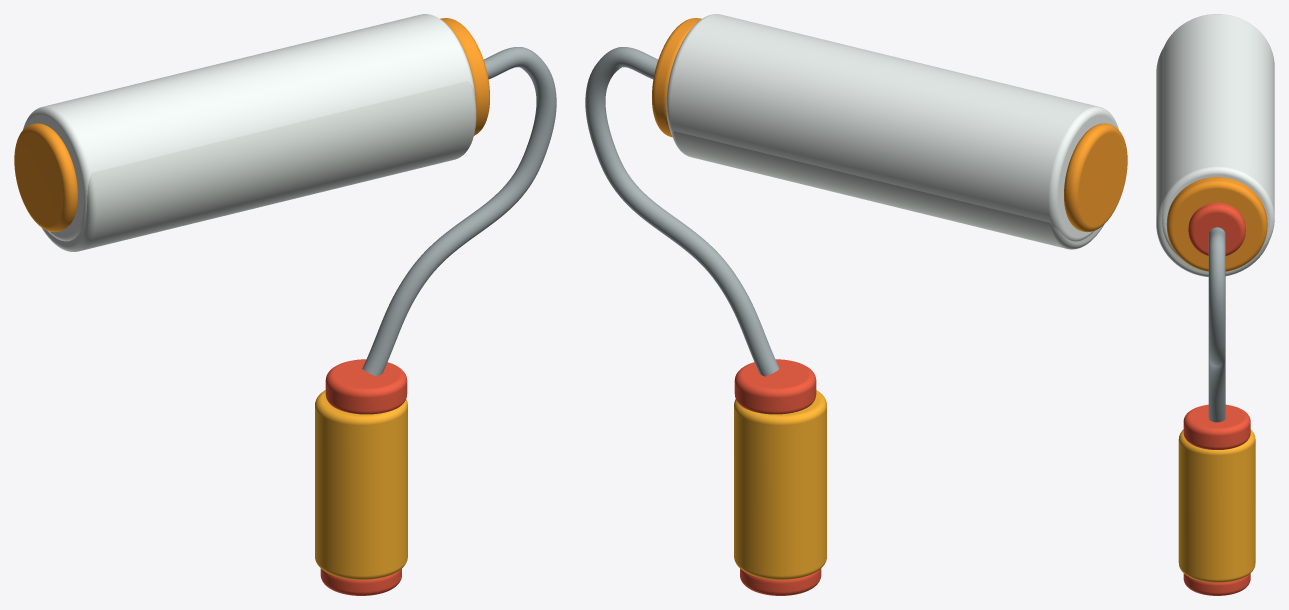
The model's file is PaintRoller.glb.
The picture shows the model from 3 angles, left to right: view 1: azimuth 30°, elevation 25°; view 2: azimuth 150°, elevation 25°; view 3: azimuth 270°, elevation 25°; orthographic projection. The views are drawn at different scales.
Visible parts, largest first — view 1: PaintRoller_Sleeve, PaintRoller_Sleeve_Shadow, PaintRoller_Handle, PaintRoller_Frame, PaintRoller_EndCap_Left, PaintRoller_Handle_Collar_Top, PaintRoller_EndCap_Right, PaintRoller_Handle_Collar_Bottom; view 2: PaintRoller_Sleeve, PaintRoller_Handle, PaintRoller_Sleeve_Shadow, PaintRoller_Frame, PaintRoller_EndCap_Left, PaintRoller_Handle_Collar_Top, PaintRoller_EndCap_Right, PaintRoller_Handle_Collar_Bottom; view 3: PaintRoller_Sleeve, PaintRoller_Handle, PaintRoller_EndCap_Right, PaintRoller_Frame, PaintRoller_Handle_Collar_Top, PaintRoller_Sleeve_Shadow, PaintRoller_EndHub, PaintRoller_Handle_Collar_Bottom.
Part boxes in pixels (x1,y1,x2,y2): PaintRoller_Sleeve: (23, 14, 475, 241); PaintRoller_Sleeve_Shadow: (42, 81, 476, 251); PaintRoller_Handle: (315, 390, 407, 579); PaintRoller_Frame: (362, 47, 556, 376); PaintRoller_EndCap_Left: (14, 123, 77, 232); PaintRoller_Handle_Collar_Top: (325, 359, 407, 414); PaintRoller_EndCap_Right: (440, 18, 489, 135); PaintRoller_Handle_Collar_Bottom: (320, 568, 401, 595); PaintRoller_Sleeve: (666, 14, 1118, 241); PaintRoller_Handle: (734, 390, 826, 579); PaintRoller_Sleeve_Shadow: (672, 131, 1104, 249); PaintRoller_Frame: (585, 47, 779, 376); PaintRoller_EndCap_Left: (1064, 123, 1127, 232); PaintRoller_Handle_Collar_Top: (734, 359, 816, 414); PaintRoller_EndCap_Right: (652, 18, 701, 137); PaintRoller_Handle_Collar_Bottom: (740, 568, 821, 595); PaintRoller_Sleeve: (1162, 14, 1274, 257); PaintRoller_Handle: (1178, 429, 1255, 582); PaintRoller_EndCap_Right: (1166, 177, 1267, 271); PaintRoller_Frame: (1208, 227, 1225, 422); PaintRoller_Handle_Collar_Top: (1183, 404, 1250, 449); PaintRoller_Sleeve_Shadow: (1156, 47, 1268, 276); PaintRoller_EndHub: (1188, 202, 1245, 255); PaintRoller_Handle_Collar_Bottom: (1183, 573, 1250, 595).
Size of the model in its own units: 2.05 by 2.06 by 0.494.
